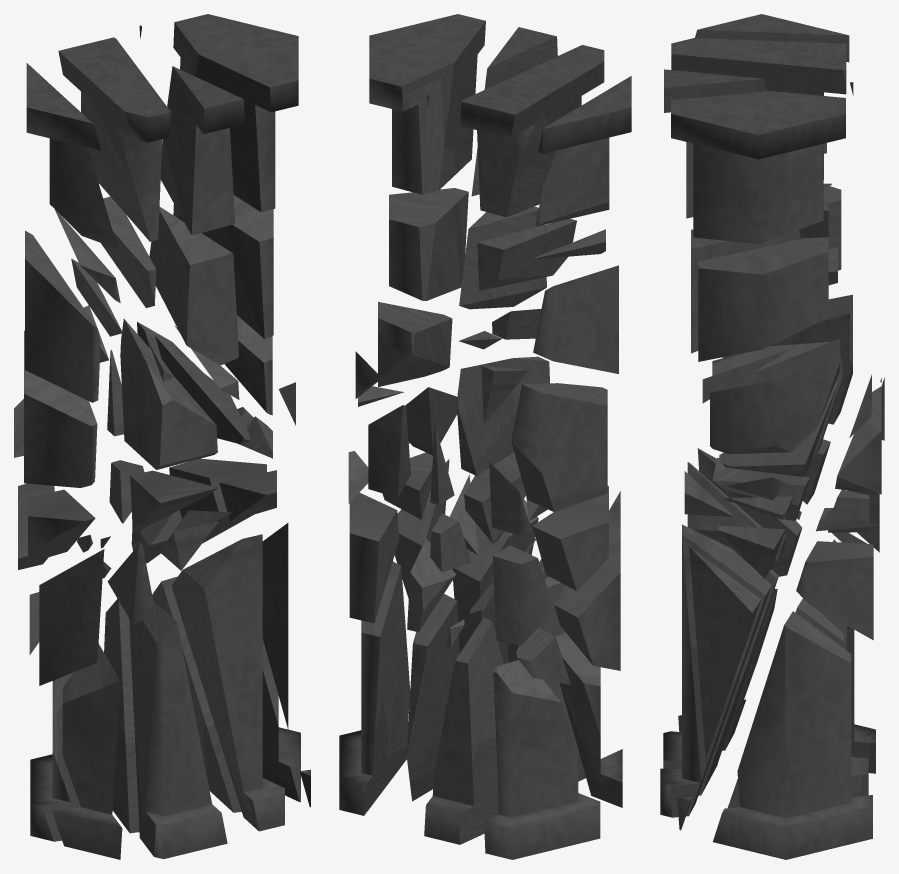
The model's file is FracturedTestPillar.fbx.
3 renders of one model, left to right at view 1: azimuth 30°, elevation 25°; view 2: azimuth 150°, elevation 25°; view 3: azimuth 270°, elevation 25°, orthographic. The views are drawn at different scales.
Parts seen in each view (by area): view 1: pasted__pasted__pCylinder3_frag_003, pasted__pasted__pCylinder3_frag_002, pasted__pasted__pCylinder3_frag_006, pasted__pasted__pCylinder3_frag_004, pasted__pasted__pCylinder3_frag_015, pasted__pasted__pCylinder3_frag_014, pasted__pasted__pCylinder3_frag_040, pasted__pasted__pCylinder3_frag_035, pasted__pasted__pCylinder3_frag_017, pasted__pasted__pCylinder3_frag_005, pasted__pasted__pCylinder3_frag_009, pasted__pasted__pCylinder3_frag_044 (+26 smaller); view 2: pasted__pasted__pCylinder3_frag_001, pasted__pasted__pCylinder3_frag_006, pasted__pasted__pCylinder3_frag_004, pasted__pasted__pCylinder3_frag_013, pasted__pasted__pCylinder3_frag_000, pasted__pasted__pCylinder3_frag_009, pasted__pasted__pCylinder3_frag_005, pasted__pasted__pCylinder3_frag_041, pasted__pasted__pCylinder3_frag_035, pasted__pasted__pCylinder3_frag_019, pasted__pasted__pCylinder3_frag_044, pasted__pasted__pCylinder3_frag_017 (+26 smaller); view 3: pasted__pasted__pCylinder3_frag_000, pasted__pasted__pCylinder3_frag_006, pasted__pasted__pCylinder3_frag_041, pasted__pasted__pCylinder3_frag_010, pasted__pasted__pCylinder3_frag_003, pasted__pasted__pCylinder3_frag_004, pasted__pasted__pCylinder3_frag_020, pasted__pasted__pCylinder3_frag_011, pasted__pasted__pCylinder3_frag_015, pasted__pasted__pCylinder3_frag_028, pasted__pasted__pCylinder3_frag_005, pasted__pasted__pCylinder3_frag_021 (+24 smaller).
Part boxes in pixels (x1,y1,x2,y2): pasted__pasted__pCylinder3_frag_003: (171,534,284,831); pasted__pasted__pCylinder3_frag_002: (129,601,227,859); pasted__pasted__pCylinder3_frag_006: (173,14,298,212); pasted__pasted__pCylinder3_frag_004: (58,37,170,241); pasted__pasted__pCylinder3_frag_015: (160,66,245,235); pasted__pasted__pCylinder3_frag_014: (52,644,122,859); pasted__pasted__pCylinder3_frag_040: (149,207,238,365); pasted__pasted__pCylinder3_frag_035: (25,230,100,402); pasted__pasted__pCylinder3_frag_017: (120,319,217,469); pasted__pasted__pCylinder3_frag_005: (26,63,117,248); pasted__pasted__pCylinder3_frag_009: (24,330,97,487); pasted__pasted__pCylinder3_frag_044: (39,549,104,685); pasted__pasted__pCylinder3_frag_001: (484,660,600,859); pasted__pasted__pCylinder3_frag_006: (369,14,485,194); pasted__pasted__pCylinder3_frag_004: (460,45,604,217); pasted__pasted__pCylinder3_frag_013: (424,617,503,844); pasted__pasted__pCylinder3_frag_000: (339,561,410,815); pasted__pasted__pCylinder3_frag_009: (511,383,607,512); pasted__pasted__pCylinder3_frag_005: (535,76,631,226); pasted__pasted__pCylinder3_frag_041: (389,188,468,300); pasted__pasted__pCylinder3_frag_035: (533,265,618,373); pasted__pasted__pCylinder3_frag_019: (406,594,459,801); pasted__pasted__pCylinder3_frag_044: (554,491,620,670); pasted__pasted__pCylinder3_frag_017: (457,356,549,475); pasted__pasted__pCylinder3_frag_000: (713,611,872,859); pasted__pasted__pCylinder3_frag_006: (671,91,845,243); pasted__pasted__pCylinder3_frag_041: (698,237,828,361); pasted__pasted__pCylinder3_frag_010: (710,338,840,454); pasted__pasted__pCylinder3_frag_003: (660,524,771,817); pasted__pasted__pCylinder3_frag_004: (671,38,846,179); pasted__pasted__pCylinder3_frag_020: (689,546,760,758); pasted__pasted__pCylinder3_frag_011: (796,541,873,640); pasted__pasted__pCylinder3_frag_015: (664,69,766,218); pasted__pasted__pCylinder3_frag_028: (835,386,881,494); pasted__pasted__pCylinder3_frag_005: (695,14,849,153); pasted__pasted__pCylinder3_frag_021: (719,381,838,476).
Bounding box in the file's own units: 4.72 × 11.82 × 3.31.
